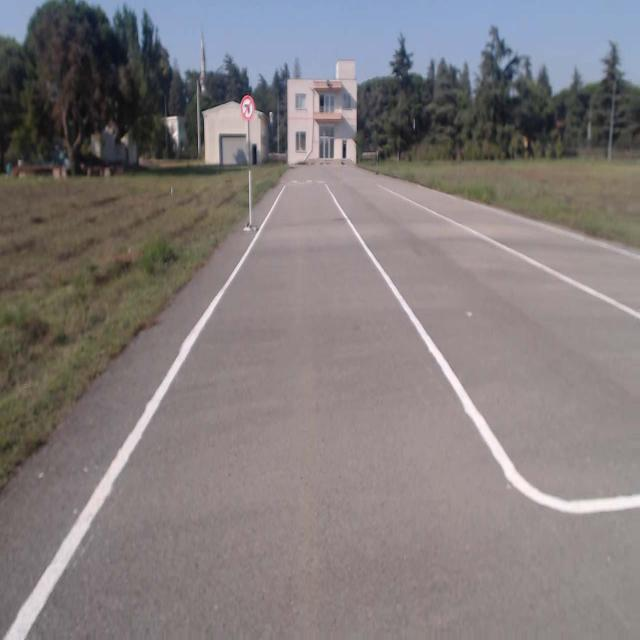soladonulmez: (241, 96, 255, 120)
